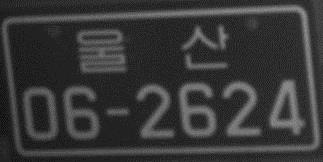-: (103, 102, 132, 120)
0: (20, 82, 60, 141)
2: (133, 82, 175, 140), (218, 79, 260, 137)
4: (265, 75, 307, 139)
6: (176, 81, 217, 137), (61, 83, 100, 141)
나: (72, 20, 232, 75)
